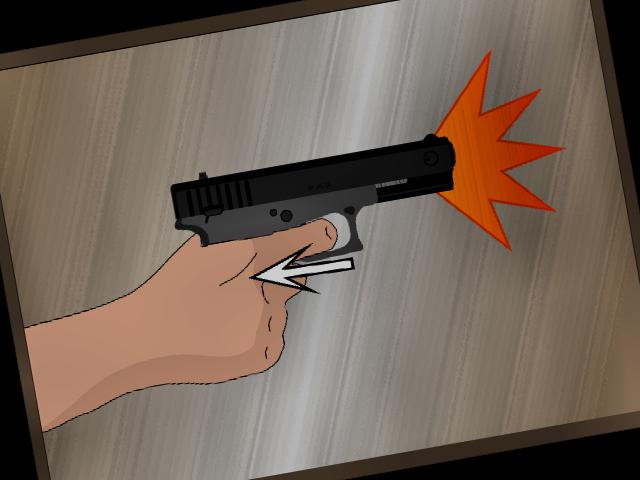pistol: (164, 120, 470, 286)
